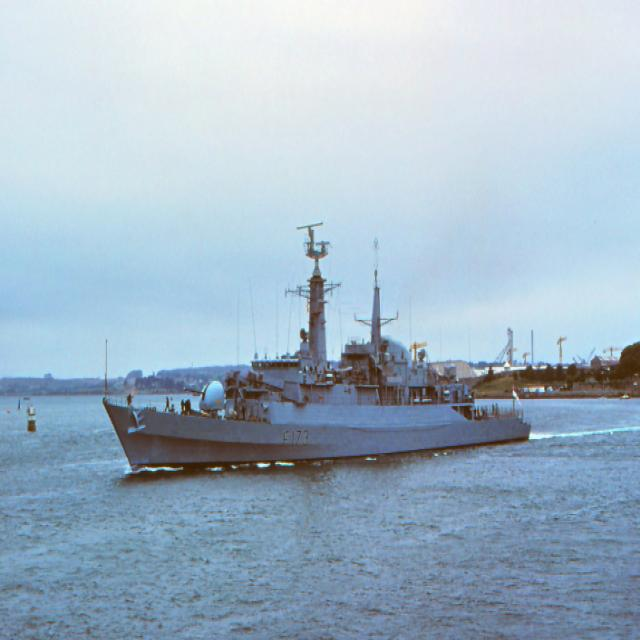Fragata: (99, 217, 535, 485)
